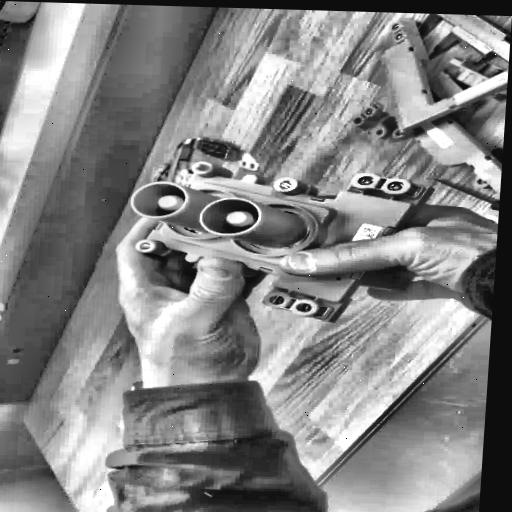connector: (114, 158, 438, 325)
